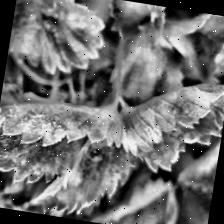Powdery Mildew Leaf: (0, 82, 129, 199), (110, 67, 224, 184)
